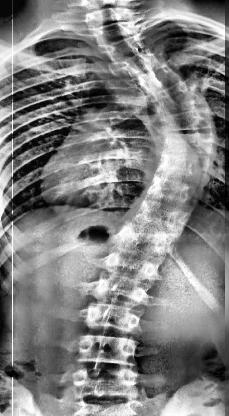Vertebrae: (92, 276, 154, 314), (72, 360, 140, 394), (133, 204, 195, 238), (86, 299, 142, 335), (136, 86, 208, 114), (78, 333, 142, 363), (104, 252, 160, 284), (147, 108, 215, 134), (119, 230, 173, 262), (149, 180, 201, 212), (154, 134, 218, 160), (130, 66, 182, 96), (155, 157, 211, 183), (117, 51, 165, 80), (104, 35, 148, 62)
